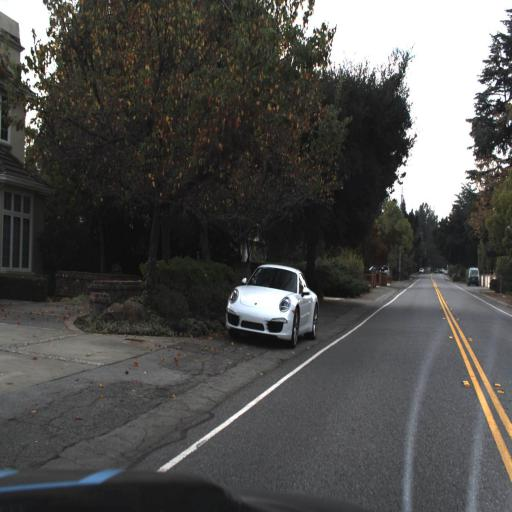car: (222, 258, 324, 350), (466, 262, 483, 291)
